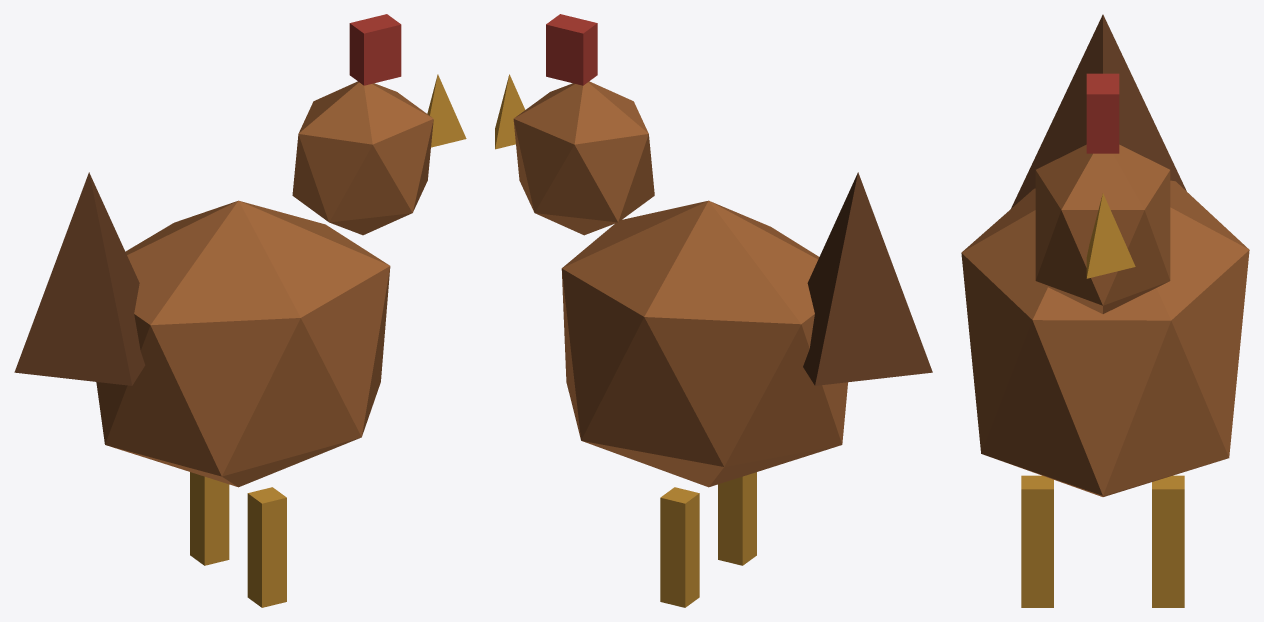
Rendered from hen.glb.
3 renders of one model, left to right at view 1: azimuth 30°, elevation 25°; view 2: azimuth 150°, elevation 25°; view 3: azimuth 270°, elevation 25°, orthographic. The views are drawn at different scales.
Parts seen in each view (by area): view 1: hen; view 2: hen; view 3: hen.
Part boxes in pixels (x1,y1,x2,y2): hen: (14, 14, 466, 607); hen: (495, 14, 932, 607); hen: (961, 14, 1249, 607).
Bounding box in the file's own units: 0.3573 × 0.4 × 0.1762.
